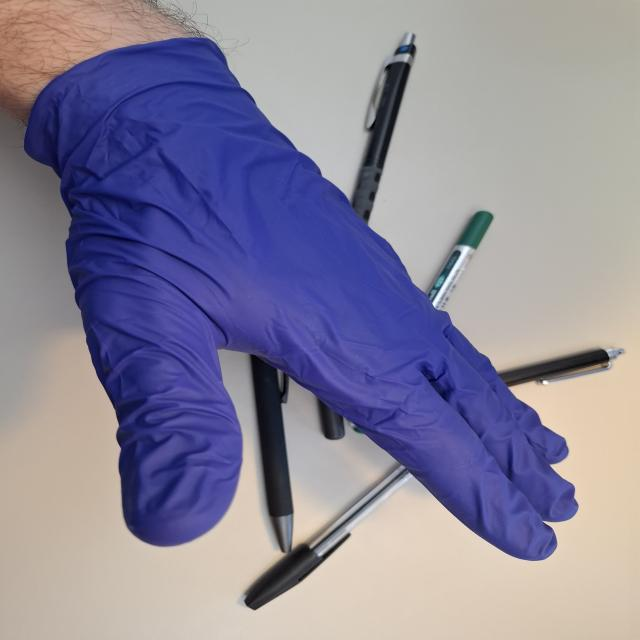glove_on: (22, 35, 583, 563)
